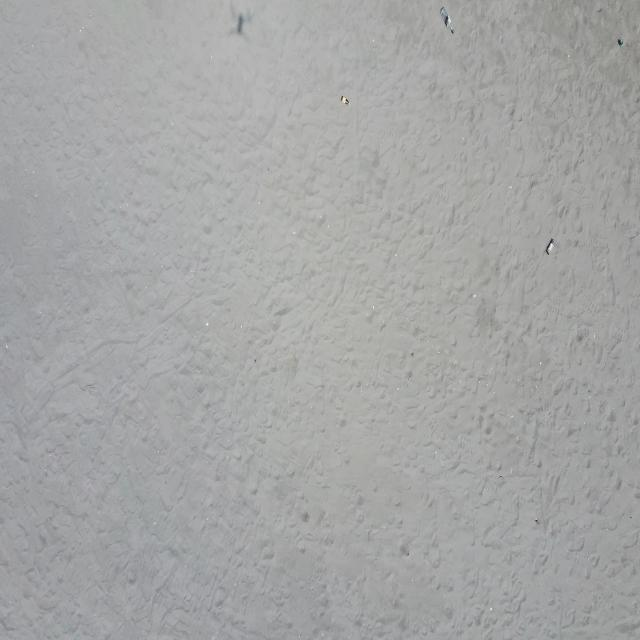glass: (440, 7, 455, 35), (546, 238, 556, 255), (341, 95, 351, 106), (620, 39, 624, 46)
